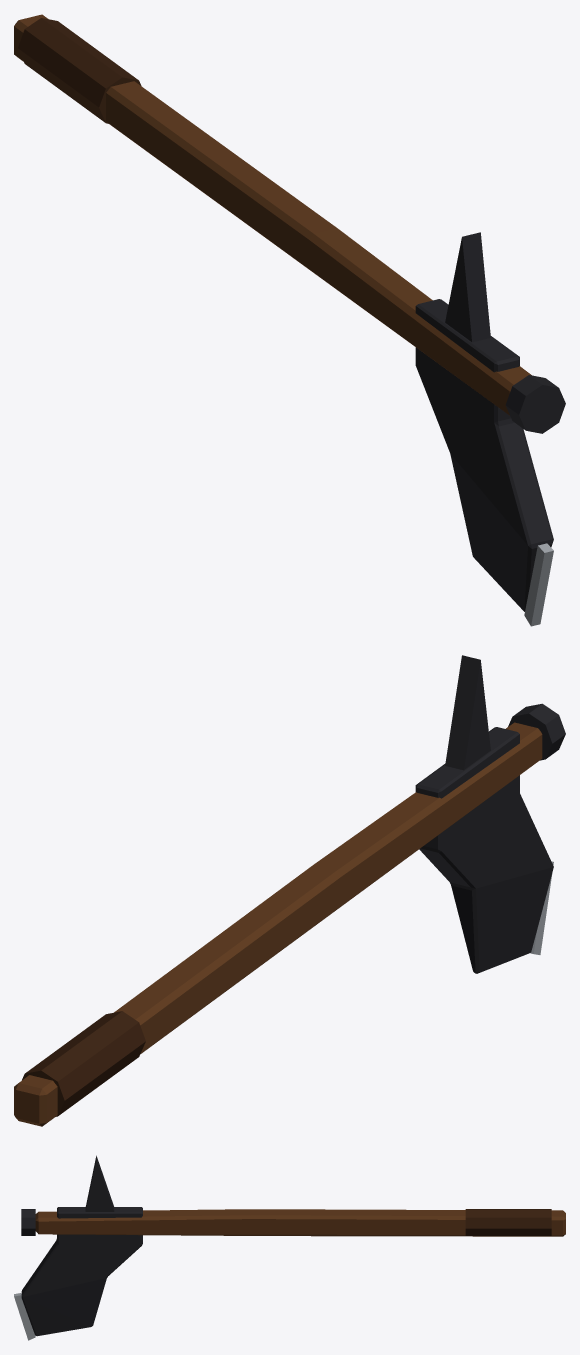
Rendered from axe.glb.
The picture shows the model from 3 angles, top to bottom: view 1: azimuth 30°, elevation 25°; view 2: azimuth 150°, elevation 25°; view 3: azimuth 270°, elevation 25°; orthographic projection. The views are drawn at different scales.
Parts seen in each view (by area): view 1: axe; view 2: axe; view 3: axe.
Boxes of the visible parts, <box> form: axe: <box>14,14,565,626</box>; axe: <box>14,655,565,1126</box>; axe: <box>14,1155,565,1340</box>.
Size of the model in its own units: 0.04 by 0.28 by 0.77.
